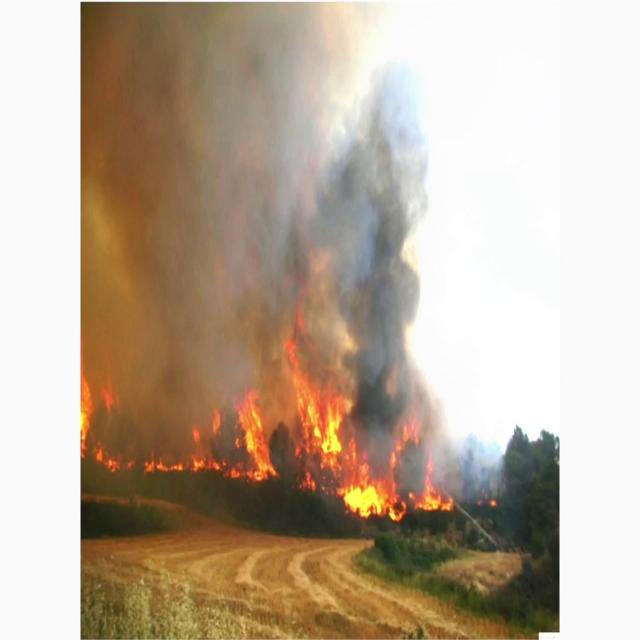Fire: (337, 462, 455, 526), (290, 358, 352, 469), (234, 393, 276, 483), (339, 472, 397, 522)
Smoke: (81, 2, 462, 464)
